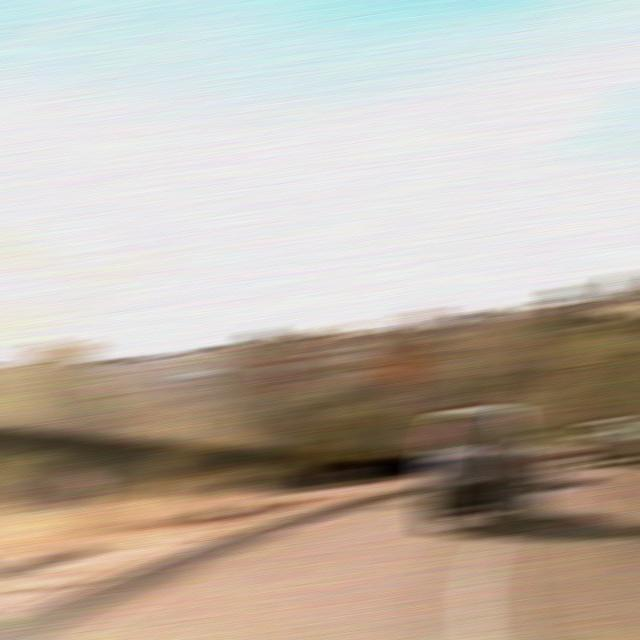yield: (253, 357, 295, 388)
